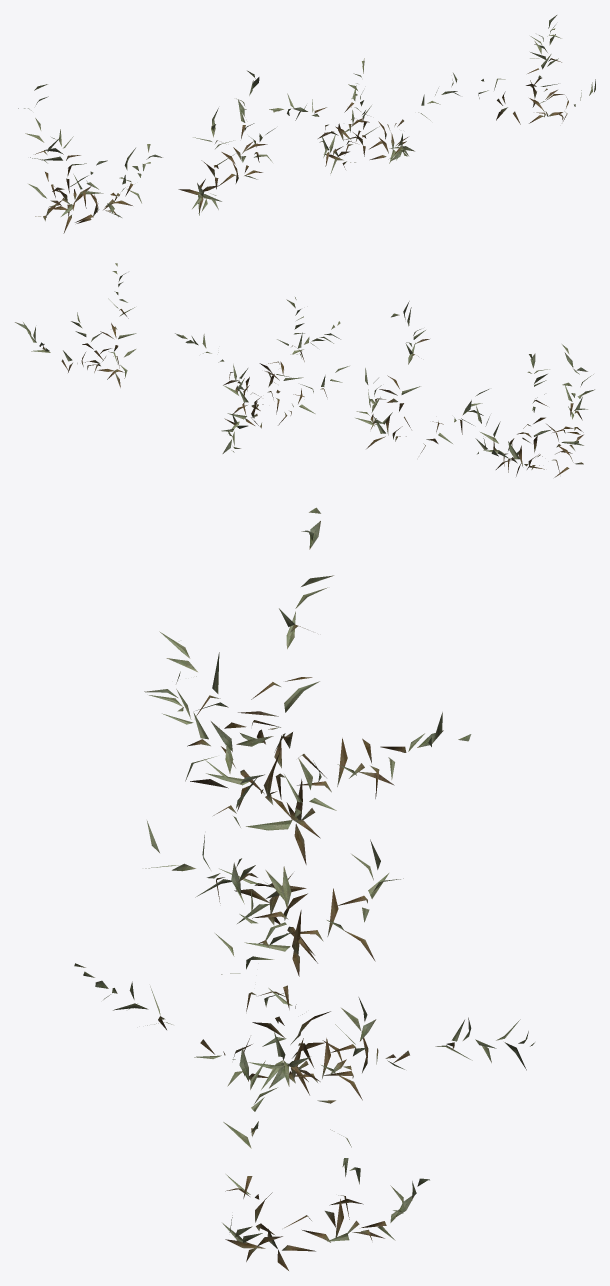
3 views of the same model, one above another, from view 1: azimuth 30°, elevation 25°; view 2: azimuth 150°, elevation 25°; view 3: azimuth 270°, elevation 25° (orthographic). The views are drawn at different scales.
Parts seen in each view (by area): view 1: shrub_02_a, shrub_02_c, shrub_02_b, shrub_02_d; view 2: shrub_02_a, shrub_02_c, shrub_02_b, shrub_02_d; view 3: shrub_02_a, shrub_02_c, shrub_02_b, shrub_02_d.
Boxes of the visible parts, left/top/right/bottom form: shrub_02_a: left=18, top=84, right=162, bottom=233; shrub_02_c: left=269, top=58, right=459, bottom=173; shrub_02_b: left=178, top=70, right=275, bottom=215; shrub_02_d: left=478, top=15, right=595, bottom=124; shrub_02_a: left=475, top=344, right=594, bottom=477; shrub_02_c: left=175, top=297, right=349, bottom=453; shrub_02_b: left=355, top=301, right=488, bottom=453; shrub_02_d: left=15, top=263, right=136, bottom=387; shrub_02_a: left=144, top=507, right=471, bottom=864; shrub_02_c: left=74, top=858, right=534, bottom=1103; shrub_02_b: left=145, top=721, right=403, bottom=976; shrub_02_d: left=222, top=1047, right=429, bottom=1270.
Bounding box in the file's own units: 6.05 × 1.62 × 2.21.
Materials: 1 (1 with a texture image).
